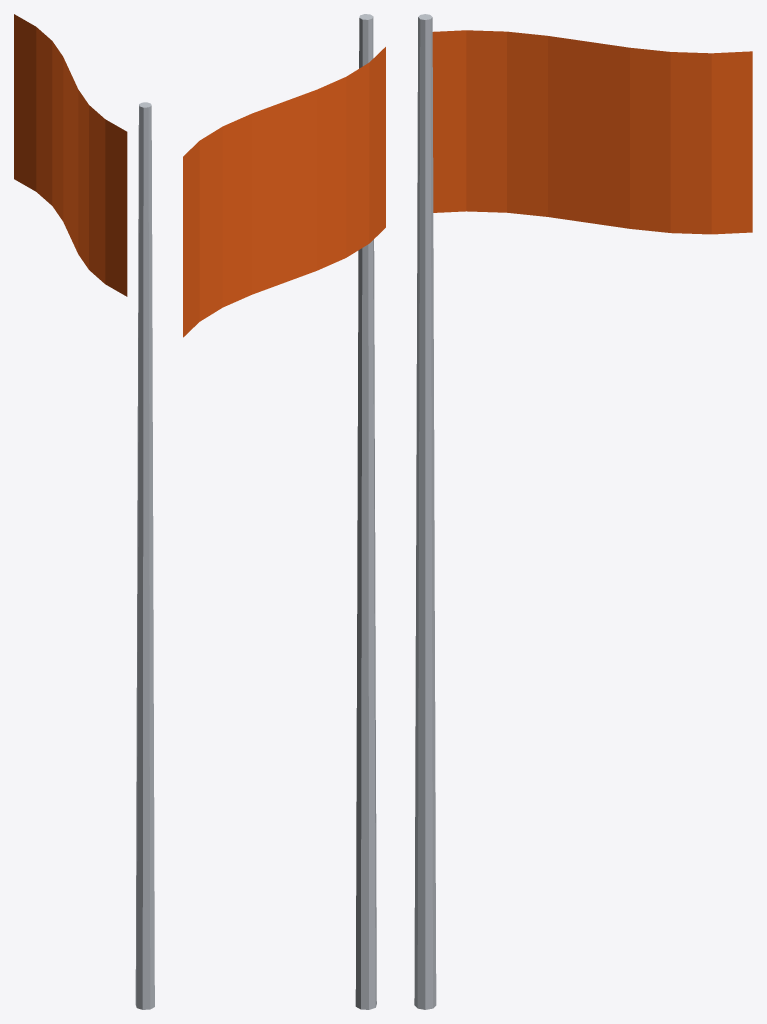
Rendered from flagpole_a.glb.
3 renders of one model, left to right at view 1: azimuth 30°, elevation 25°; view 2: azimuth 150°, elevation 25°; view 3: azimuth 270°, elevation 25°, orthographic. The views are drawn at different scales.
Parts seen in each view (by area): view 1: flagpole; view 2: flagpole; view 3: flagpole.
Part boxes in pixels (x1=…): flagpole: x1=14, y1=14, x2=154, y2=1009; flagpole: x1=183, y1=14, x2=385, y2=1009; flagpole: x1=414, y1=14, x2=752, y2=1009.
Size of the model in its own units: 0.2996 by 6 by 1.86.
